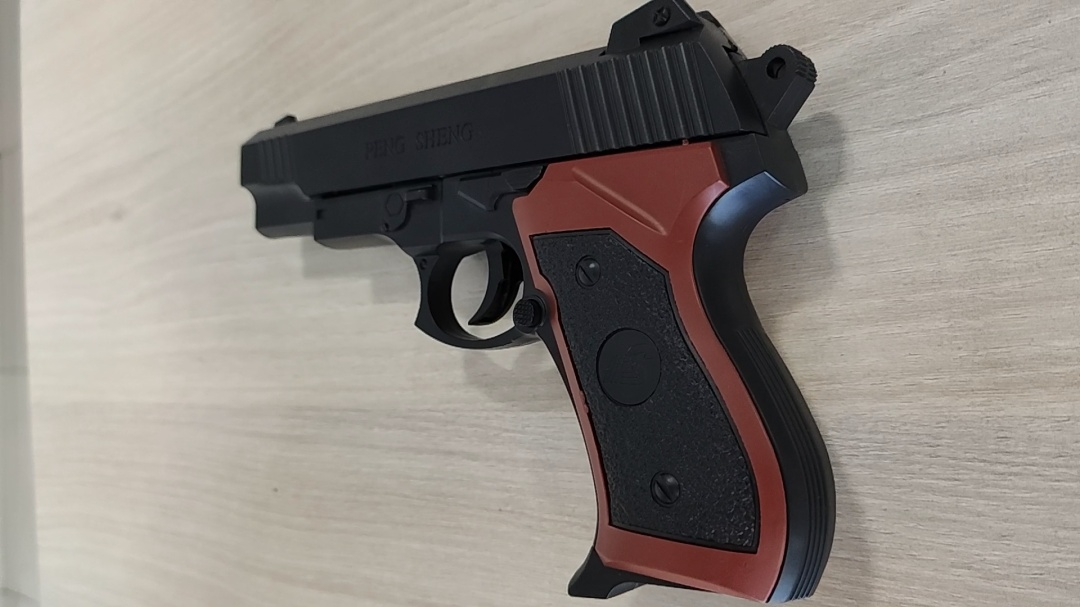gun: (238, 3, 843, 606)
